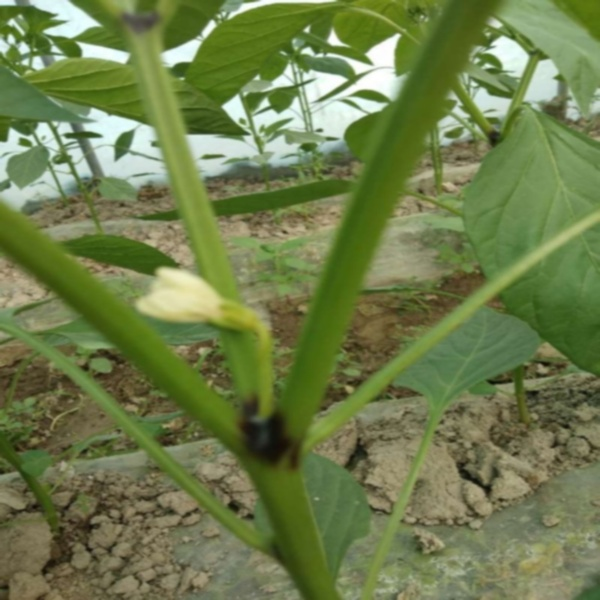blight: (238, 392, 300, 470), (118, 10, 161, 37)
